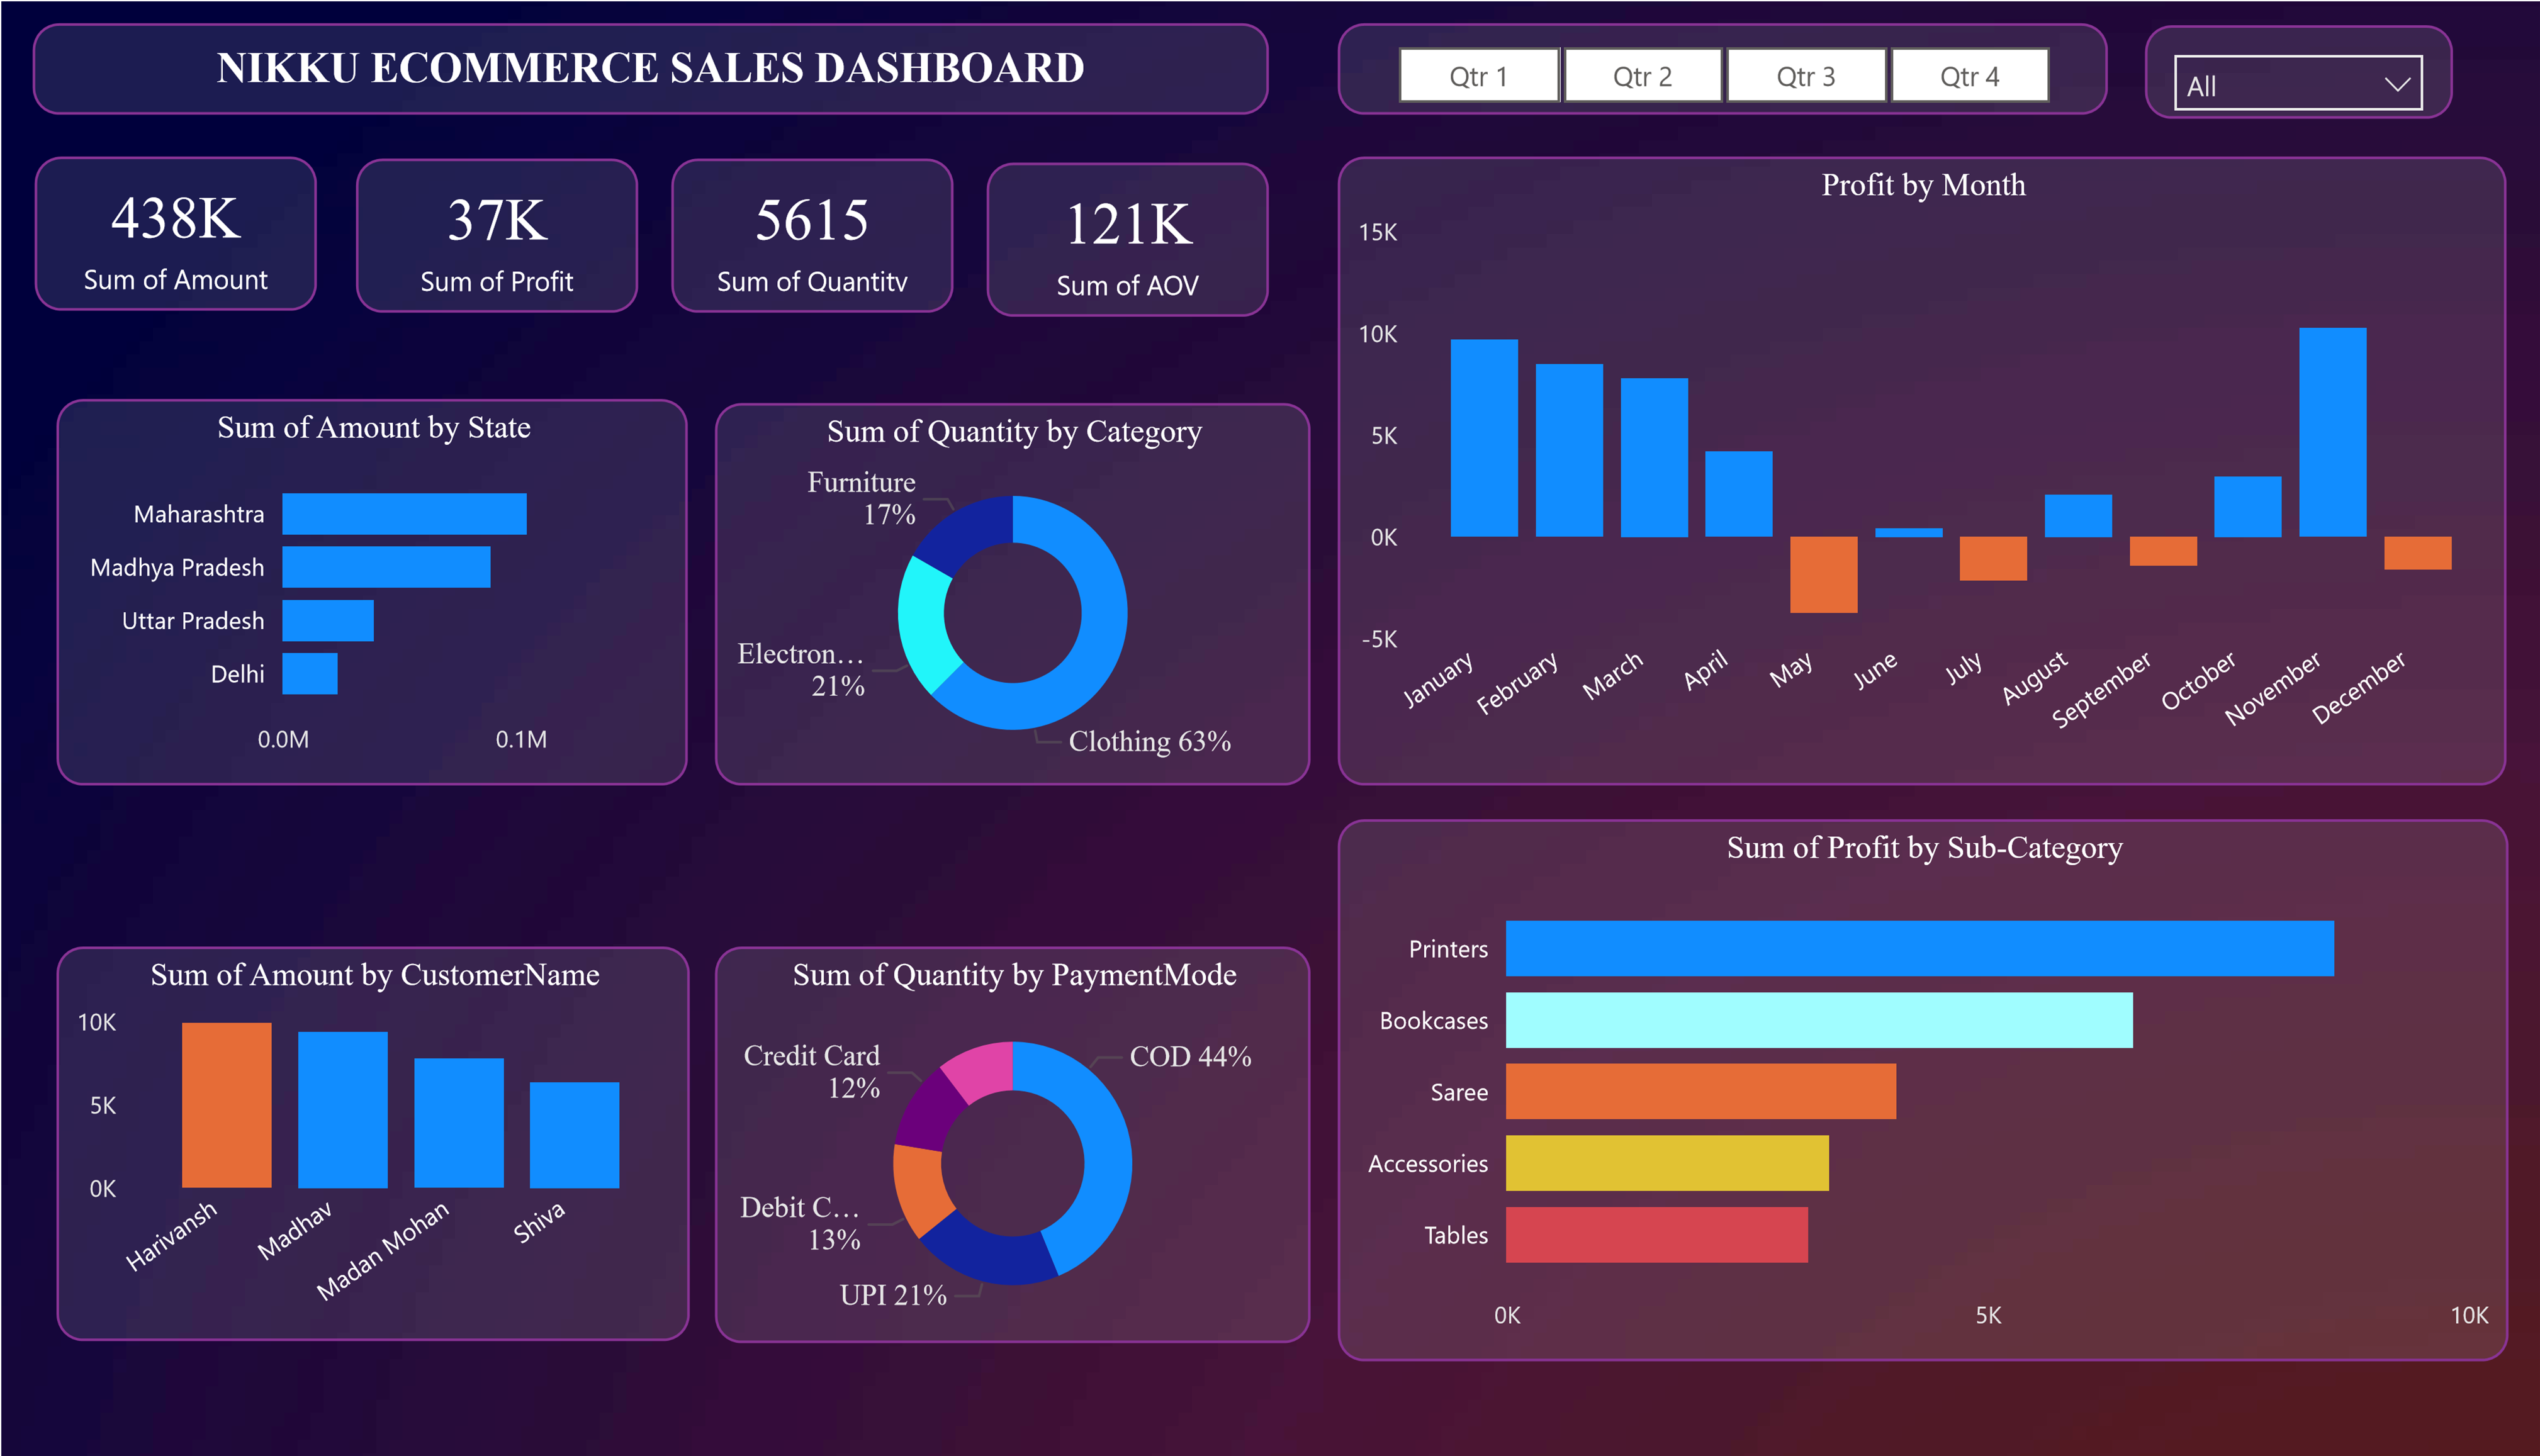

What the dashboard file says about the page in this screenshot:
{"tool":"powerbi","page":{"name":"Page 1","canvas":[1280,720],"ordinal":0},"visuals":[{"type":"textbox","box":[16.5,11,623,45.3],"z":0},{"type":"columnChart","title":"Profit by Month","fields":{"Category":["Orders.Order Date.Variation.Date Hierarchy.Month"],"Y":["Sum(Details.Profit)"]},"box":[674.4,77.2,588.7,311.3],"z":1000},{"type":"barChart","fields":{"Category":["Details.Sub-Category"],"Y":["Sum(Details.Profit)"]},"box":[674.4,405.4,589.9,267.8],"z":2000},{"type":"donutChart","fields":{"Category":["Details.Category"],"Y":["Sum(Details.Quantity)"]},"box":[359.5,199.1,300.4,189.4],"z":3000},{"type":"donutChart","fields":{"Category":["Details.PaymentMode"],"Y":["Sum(Details.Quantity)"]},"box":[359.5,468.1,300.4,195.4],"z":4000},{"type":"card","fields":{"Values":["Sum(Details.Amount)"]},"box":[16.9,77.2,142.4,76],"z":5000},{"type":"card","fields":{"Values":["Sum(Details.Profit)"]},"box":[178.6,78.4,142.4,76],"z":6000},{"type":"card","fields":{"Values":["Sum(Details.AOV)"]},"box":[497.1,79.6,142.4,76],"z":7000},{"type":"card","fields":{"Values":["Sum(Details.Quantity)"]},"box":[337.8,78.4,142.4,76],"z":8000},{"type":"barChart","fields":{"Category":["Orders.State"],"Y":["Sum(Details.Amount)"]},"box":[27.7,196.6,318.5,191.8],"z":9000},{"type":"columnChart","fields":{"Category":["Orders.CustomerName"],"Y":["Sum(Details.Amount)"]},"box":[28,468,319,195],"z":10000},{"type":"slicer","fields":{"Values":["Orders.Order Date.Variation.Date Hierarchy.Quarter"]},"box":[673.8,11,388.3,45.3],"z":11000},{"type":"slicer","fields":{"Values":["Orders.State"]},"box":[1081.3,12.3,155.1,45.3],"z":12000}]}

Visuals, with their boxes in screenshot pixels (x1, y1, x2, y2), scaled from the page's 1280x720 canvas onto the 2540x1456 screenshot:
textbox: <region>33, 22, 1269, 114</region>
"Profit by Month" columnChart: <region>1338, 156, 2507, 786</region>
barChart - Details.Sub-Category x Sum(Details.Profit): <region>1338, 820, 2509, 1362</region>
donutChart - Details.Category x Sum(Details.Quantity): <region>714, 403, 1310, 786</region>
donutChart - Details.PaymentMode x Sum(Details.Quantity): <region>714, 946, 1310, 1341</region>
card - Sum(Details.Amount): <region>33, 156, 316, 310</region>
card - Sum(Details.Profit): <region>354, 159, 637, 312</region>
card - Sum(Details.AOV): <region>986, 161, 1269, 315</region>
card - Sum(Details.Quantity): <region>670, 159, 953, 312</region>
barChart - Orders.State x Sum(Details.Amount): <region>55, 398, 687, 785</region>
columnChart - Orders.CustomerName x Sum(Details.Amount): <region>55, 946, 688, 1341</region>
slicer - Orders.Order Date.Variation.Date Hierarchy.Quarter: <region>1337, 22, 2108, 114</region>
slicer - Orders.State: <region>2145, 25, 2454, 116</region>
